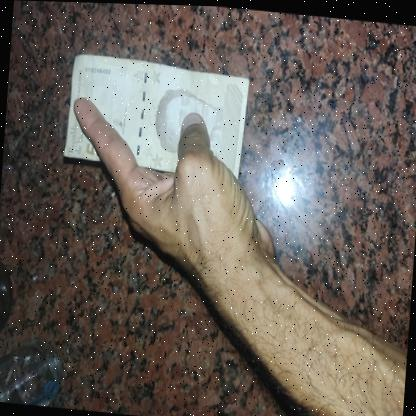five-front-vef: (62, 50, 251, 181)
